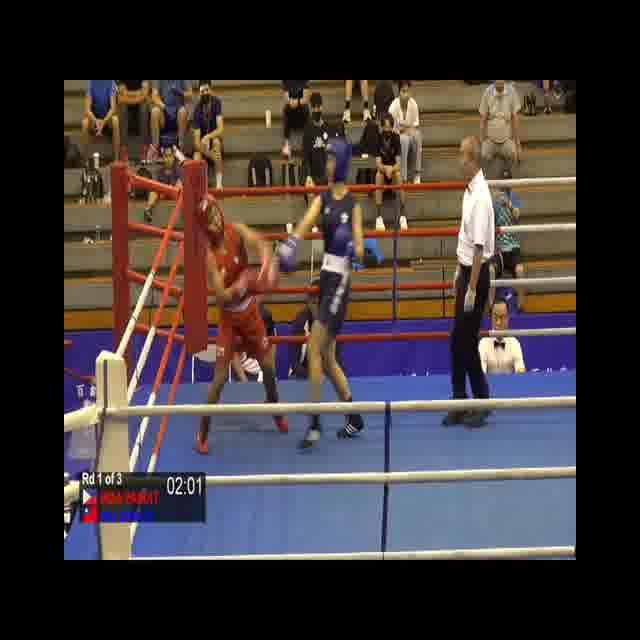blue-player: (274, 132, 366, 453)
red-player: (188, 188, 291, 461)
referee: (438, 132, 497, 434)
